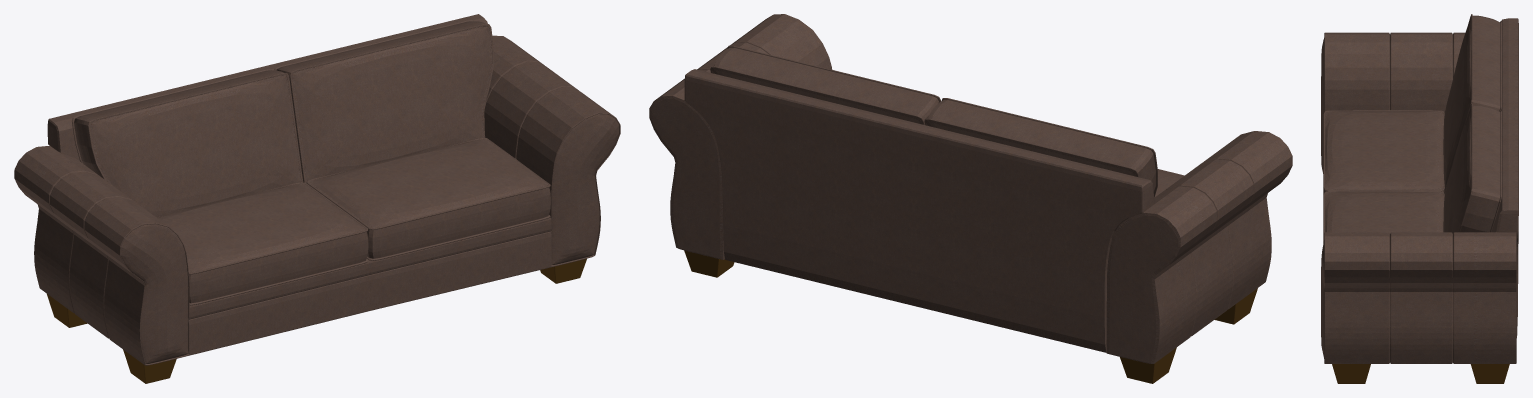
Rendered from sofa3.obj.
3 renders of one model, left to right at view 1: azimuth 30°, elevation 25°; view 2: azimuth 150°, elevation 25°; view 3: azimuth 270°, elevation 25°, orthographic. The views are drawn at different scales.
Parts seen in each view (by area): view 1: Plane, Cube.004_Cube.005, Cube.002_Cube.007, Cube_Cube.001, Cube.001_Cube.006; view 2: Cube_Cube.001, Plane, Cube.004_Cube.005, Cube.001_Cube.006; view 3: Plane, Cube.002_Cube.007, Cube.004_Cube.005, Cube_Cube.001, Cube.001_Cube.006.
Boxes of the visible parts, x1,y1,x2,y2 form: Plane: [14, 35, 620, 365]; Cube.004_Cube.005: [72, 20, 493, 217]; Cube.002_Cube.007: [156, 137, 550, 305]; Cube_Cube.001: [47, 14, 487, 161]; Cube.001_Cube.006: [47, 258, 586, 383]; Cube_Cube.001: [684, 69, 1154, 352]; Plane: [649, 14, 1292, 363]; Cube.004_Cube.005: [710, 45, 1157, 197]; Cube.001_Cube.006: [684, 250, 1257, 383]; Plane: [1321, 32, 1516, 363]; Cube.002_Cube.007: [1323, 110, 1444, 242]; Cube.004_Cube.005: [1443, 14, 1501, 233]; Cube_Cube.001: [1492, 18, 1518, 337]; Cube.001_Cube.006: [1332, 364, 1509, 383].
Size of the model in its own units: 204 by 79.95 by 76.91.
